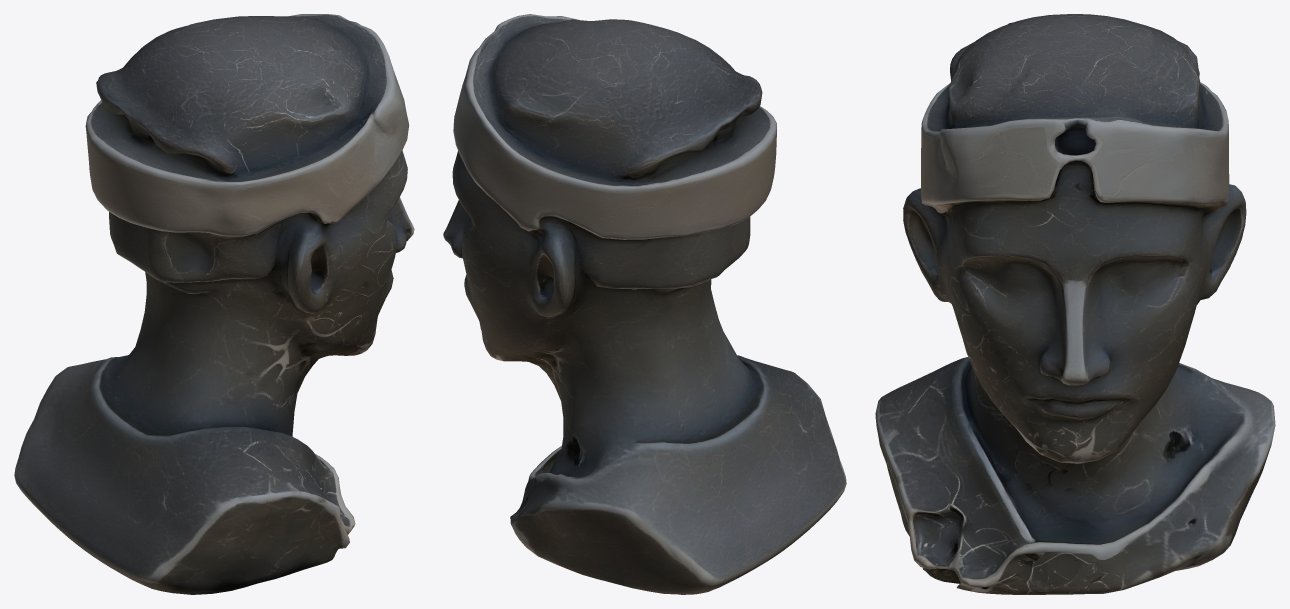
The model's file is toppled-statue.glb.
The picture shows the model from 3 angles, left to right: view 1: azimuth 30°, elevation 25°; view 2: azimuth 150°, elevation 25°; view 3: azimuth 270°, elevation 25°; orthographic projection. The views are drawn at different scales.
Parts seen in each view (by area): view 1: tripo_node_2c072a41-2083-48fb-90b3-9052c1bff155; view 2: tripo_node_2c072a41-2083-48fb-90b3-9052c1bff155; view 3: tripo_node_2c072a41-2083-48fb-90b3-9052c1bff155.
Boxes of the visible parts, bbox=[...] form: tripo_node_2c072a41-2083-48fb-90b3-9052c1bff155: bbox=[14, 14, 414, 594]; tripo_node_2c072a41-2083-48fb-90b3-9052c1bff155: bbox=[443, 14, 846, 594]; tripo_node_2c072a41-2083-48fb-90b3-9052c1bff155: bbox=[875, 14, 1275, 594].
Bounding box in the file's own units: 0.7173 × 0.9995 × 0.6772.
1 material, 1 textured.
